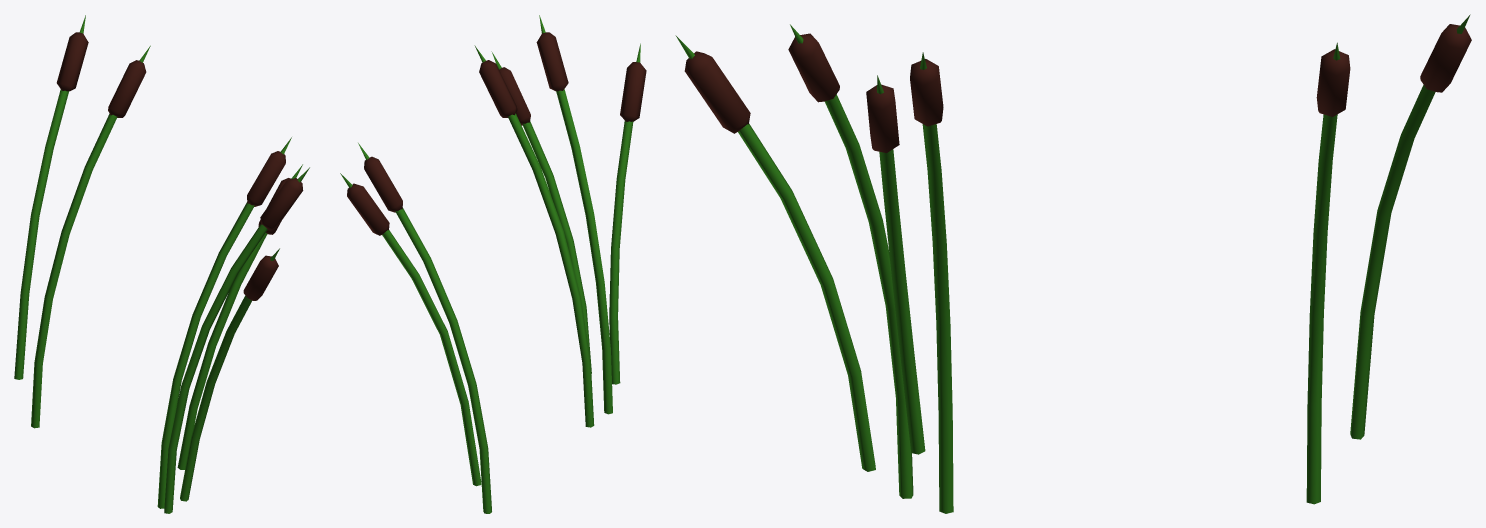
The model's file is Plants.fbx.
3 renders of one model, left to right at view 1: azimuth 30°, elevation 25°; view 2: azimuth 150°, elevation 25°; view 3: azimuth 270°, elevation 25°, orthographic. The views are drawn at different scales.
Parts seen in each view (by area): view 1: Cylinder020, Cylinder015, Cylinder018, Cylinder019, Cylinder017, Cylinder016, Capsule005, Capsule006, Capsule001, Capsule004, Capsule002; view 2: Cylinder015, Cylinder018, Cylinder020, Cylinder019, Cylinder016, Cylinder017, Capsule001, Capsule002, Capsule004, Capsule005, Capsule006, Capsule003; view 3: Cylinder018, Cylinder020, Cylinder016, Cylinder019, Cylinder015, Cylinder017, Capsule002, Capsule005, Capsule001, Capsule006, Capsule004, Capsule003.
Boxes of the visible parts, bbox=[...] form: Cylinder020: bbox=[31, 113, 117, 428]; Cylinder015: bbox=[164, 224, 267, 513]; Cylinder018: bbox=[157, 202, 254, 508]; Cylinder019: bbox=[14, 89, 68, 379]; Cylinder017: bbox=[177, 233, 267, 469]; Cylinder016: bbox=[180, 295, 251, 501]; Capsule005: bbox=[56, 32, 88, 91]; Capsule006: bbox=[108, 60, 146, 117]; Capsule001: bbox=[260, 178, 303, 230]; Capsule004: bbox=[247, 151, 285, 206]; Capsule002: bbox=[243, 255, 278, 300]; Cylinder015: bbox=[556, 89, 612, 414]; Cylinder018: bbox=[508, 113, 594, 427]; Cylinder020: bbox=[395, 207, 491, 513]; Cylinder019: bbox=[382, 230, 481, 486]; Cylinder016: bbox=[609, 120, 633, 384]; Cylinder017: bbox=[522, 121, 591, 373]; Capsule001: bbox=[536, 32, 568, 91]; Capsule002: bbox=[620, 62, 646, 121]; Capsule004: bbox=[479, 60, 517, 117]; Capsule005: bbox=[347, 183, 389, 235]; Capsule006: bbox=[364, 156, 402, 212]; Capsule003: bbox=[499, 67, 530, 125]; Cylinder018: bbox=[922, 124, 953, 513]; Cylinder020: bbox=[1306, 114, 1337, 504]; Cylinder016: bbox=[738, 123, 875, 471]; Cylinder019: bbox=[1350, 85, 1435, 439]; Cylinder015: bbox=[824, 94, 913, 498]; Cylinder017: bbox=[879, 149, 925, 454]; Capsule002: bbox=[684, 51, 750, 133]; Capsule005: bbox=[1420, 24, 1471, 92]; Capsule001: bbox=[788, 33, 839, 102]; Capsule006: bbox=[1316, 49, 1350, 116]; Capsule004: bbox=[910, 59, 943, 126]; Capsule003: bbox=[866, 84, 899, 152].
Size of the model in its own units: 69.34 by 163 by 209.
